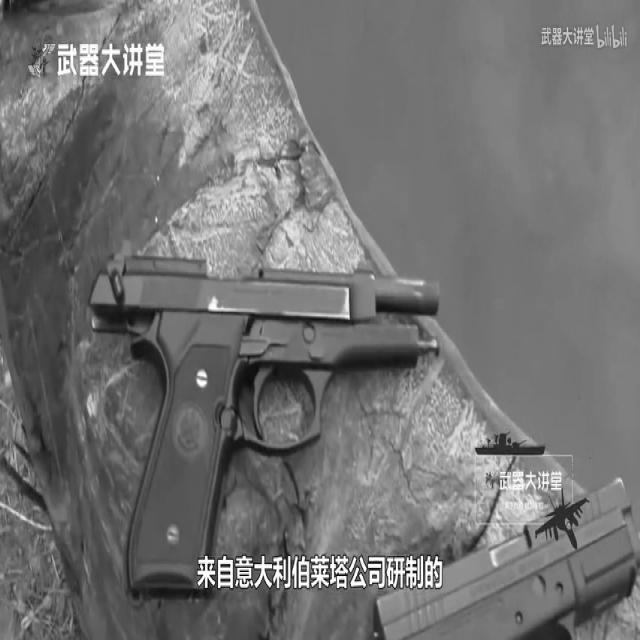Hand-Gun: (59, 244, 459, 583), (379, 467, 629, 640)
